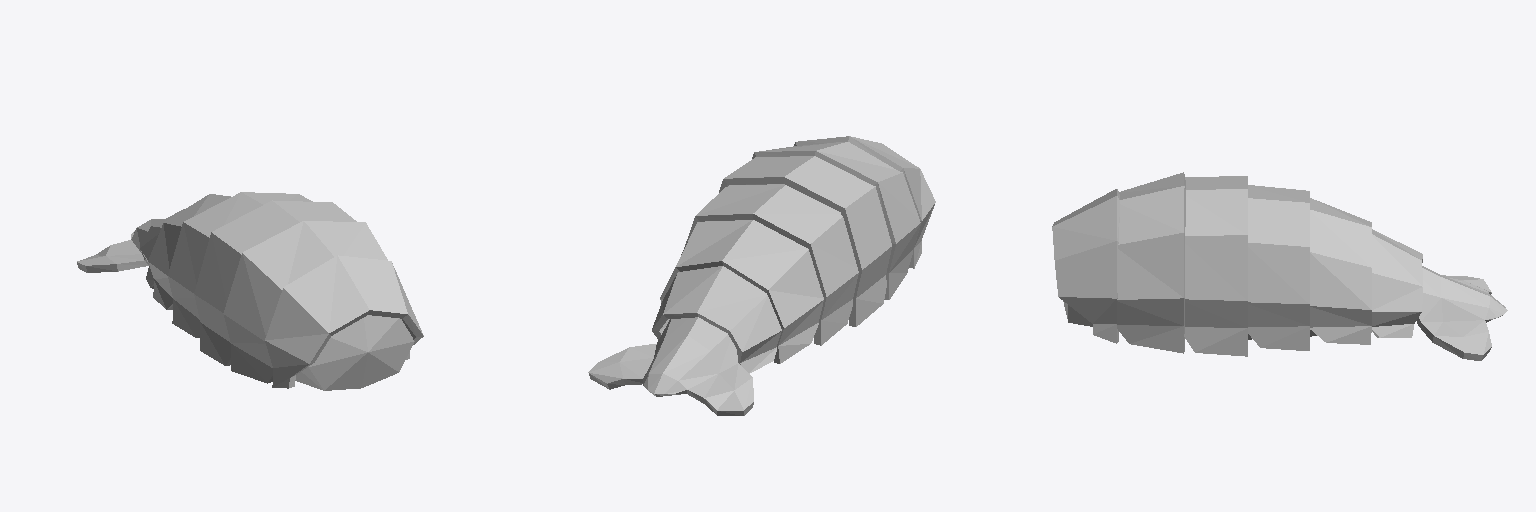
The model's file is fish.obj.
3 views of the same model, side by side, from view 1: azimuth 30°, elevation 25°; view 2: azimuth 150°, elevation 25°; view 3: azimuth 270°, elevation 25° (orthographic).
Bounding box in the file's own units: 1.13 × 0.9439 × 2.77.